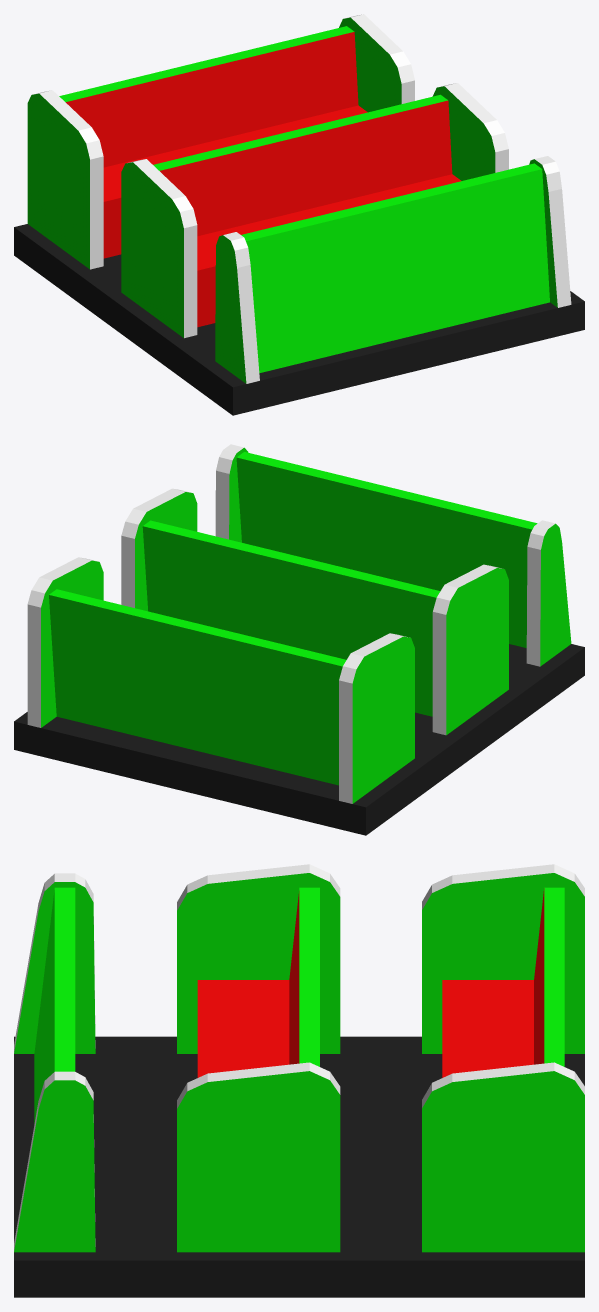
The picture shows the model from 3 angles, top to bottom: view 1: azimuth 30°, elevation 25°; view 2: azimuth 150°, elevation 25°; view 3: azimuth 270°, elevation 25°; orthographic projection. The views are drawn at different scales.
Visible parts, largest first — view 1: front, cylinder (×6), base, back, middle, seat-front, seat-back; view 2: cylinder (×6), back, front, base, middle; view 3: cylinder (×6), base, seat-front, seat-back, front, back, middle.
Boxes of the visible parts, bbox=[...] form: front: bbox=[241, 163, 549, 373]; cylinder (×6): bbox=[27, 14, 571, 383]; base: bbox=[14, 224, 584, 415]; back: bbox=[59, 26, 358, 167]; middle: bbox=[153, 94, 452, 236]; seat-front: bbox=[197, 174, 461, 327]; seat-back: bbox=[103, 105, 367, 258]; cylinder (×6): bbox=[27, 444, 571, 803]; back: bbox=[49, 589, 346, 785]; front: bbox=[236, 452, 537, 647]; base: bbox=[14, 644, 584, 835]; middle: bbox=[142, 520, 440, 716]; cylinder (×6): bbox=[14, 864, 584, 1252]; base: bbox=[14, 1036, 584, 1297]; seat-front: bbox=[197, 980, 289, 1077]; seat-back: bbox=[442, 980, 533, 1077]; front: bbox=[34, 887, 75, 1123]; back: bbox=[534, 887, 564, 1066]; middle: bbox=[289, 887, 319, 1066].
Size of the model in its own units: 1.62 by 0.7375 by 1.75.
1 material, 1 textured.
